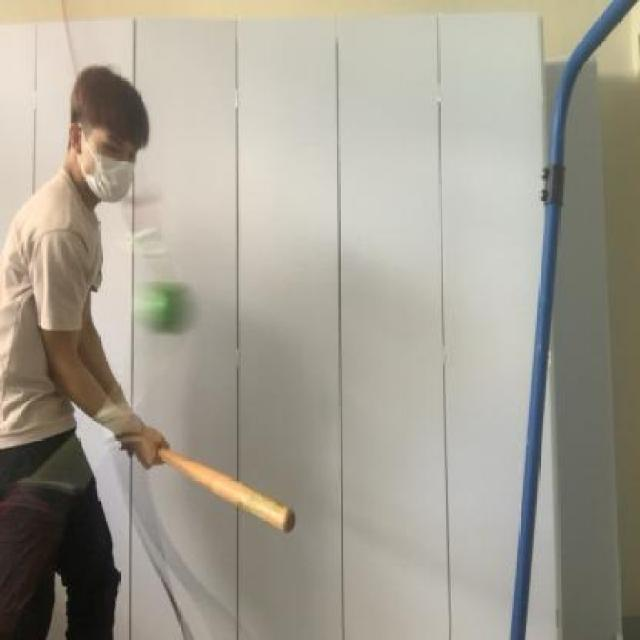baseball: (128, 268, 218, 344)
